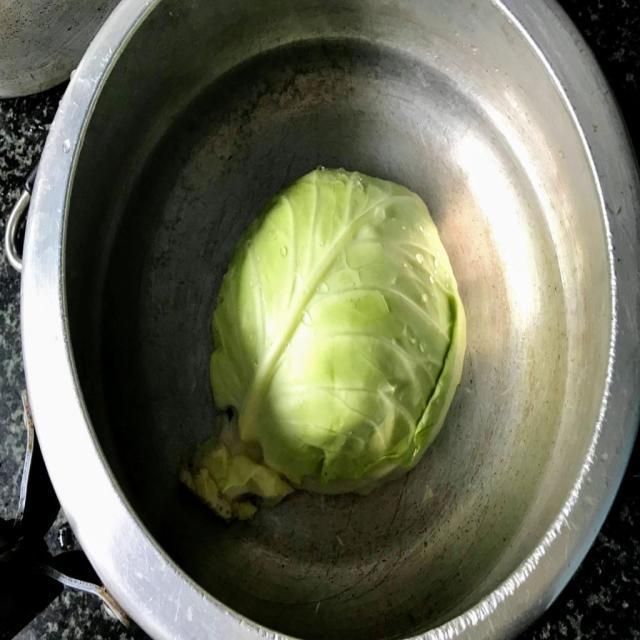cabbage: (184, 154, 474, 544)
